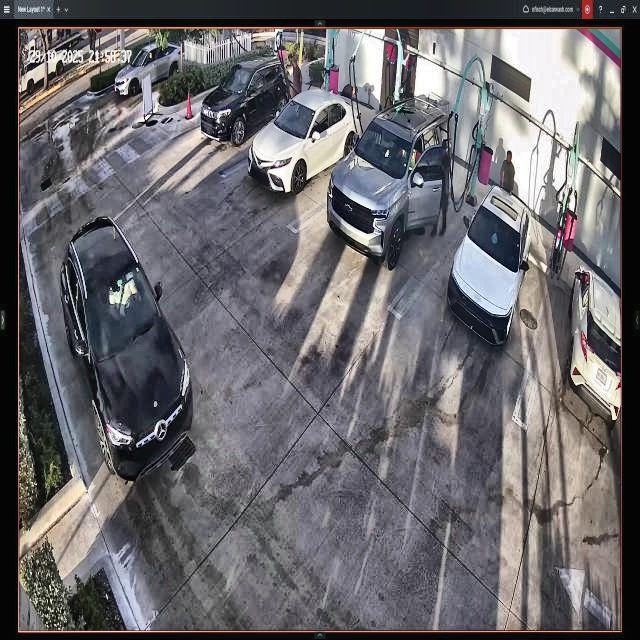Car: (60, 212, 193, 486), (326, 98, 453, 264), (448, 184, 532, 345), (249, 90, 359, 192), (202, 58, 291, 147)
